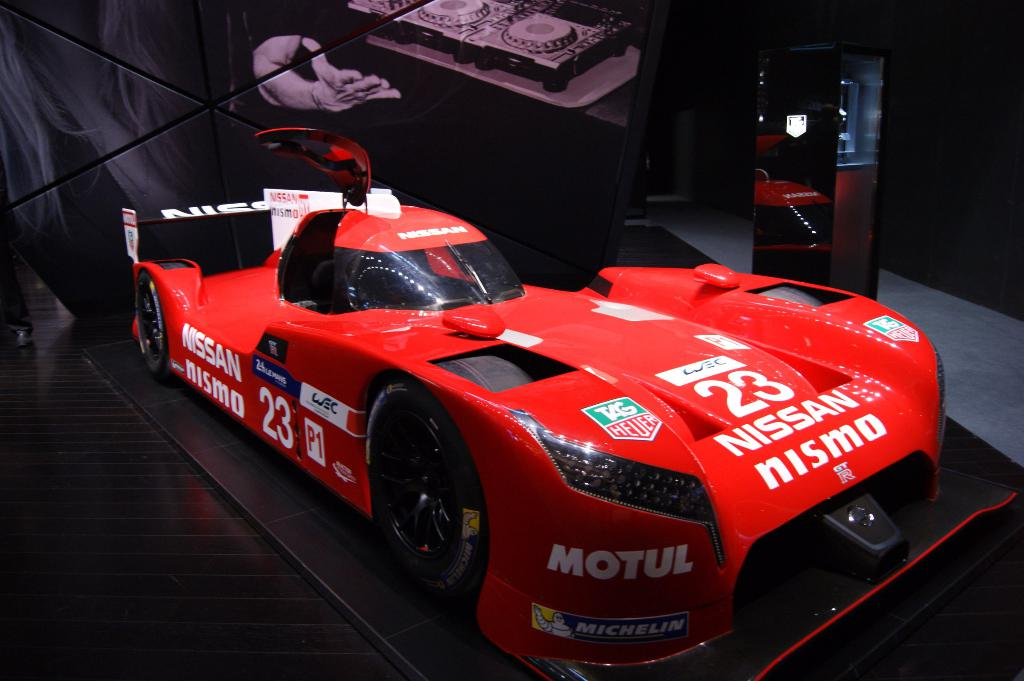Car: (120, 119, 1023, 680)
